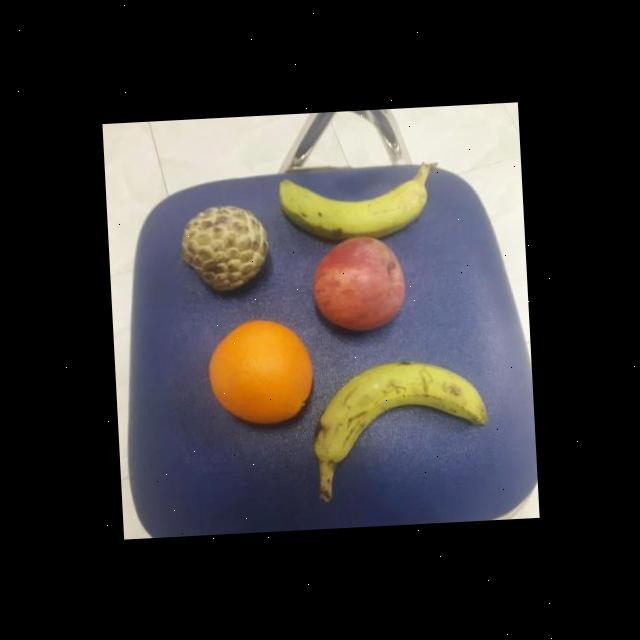Sakya fruit: (176, 202, 272, 296)
apple: (310, 233, 410, 333)
banana: (307, 354, 489, 466), (272, 165, 432, 241)
orange: (203, 314, 319, 429)
